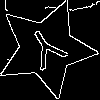Y: (21, 23, 75, 80)
